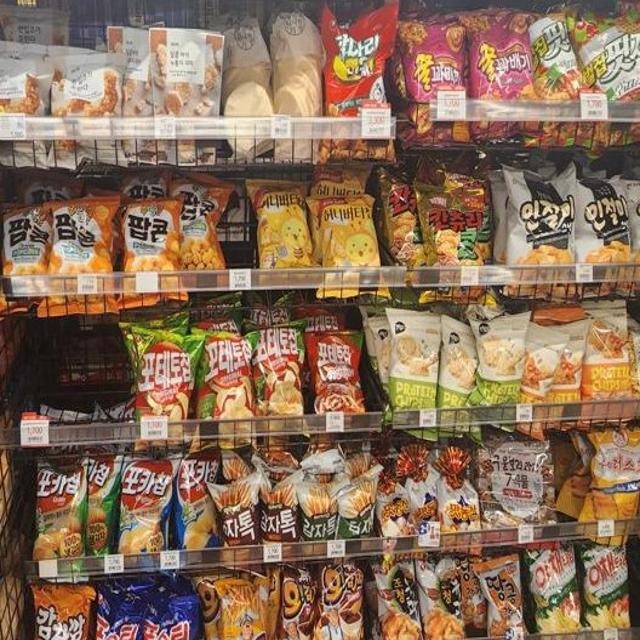product: (402, 24, 474, 142), (507, 169, 577, 288), (47, 202, 117, 312), (472, 15, 536, 132), (134, 327, 202, 428), (117, 200, 183, 303), (249, 181, 314, 281), (387, 311, 441, 427), (318, 201, 382, 298), (116, 456, 177, 557), (474, 316, 530, 414), (33, 461, 85, 564), (254, 326, 306, 426), (204, 331, 254, 429), (527, 544, 581, 633), (313, 332, 366, 421), (534, 323, 588, 407), (474, 555, 527, 636), (314, 562, 366, 640), (584, 538, 629, 628), (180, 456, 219, 552), (293, 481, 343, 542), (340, 472, 381, 541)
